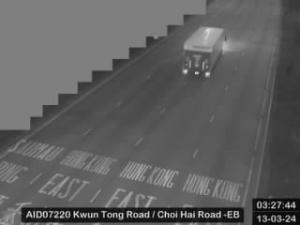truck: (181, 26, 227, 78)
